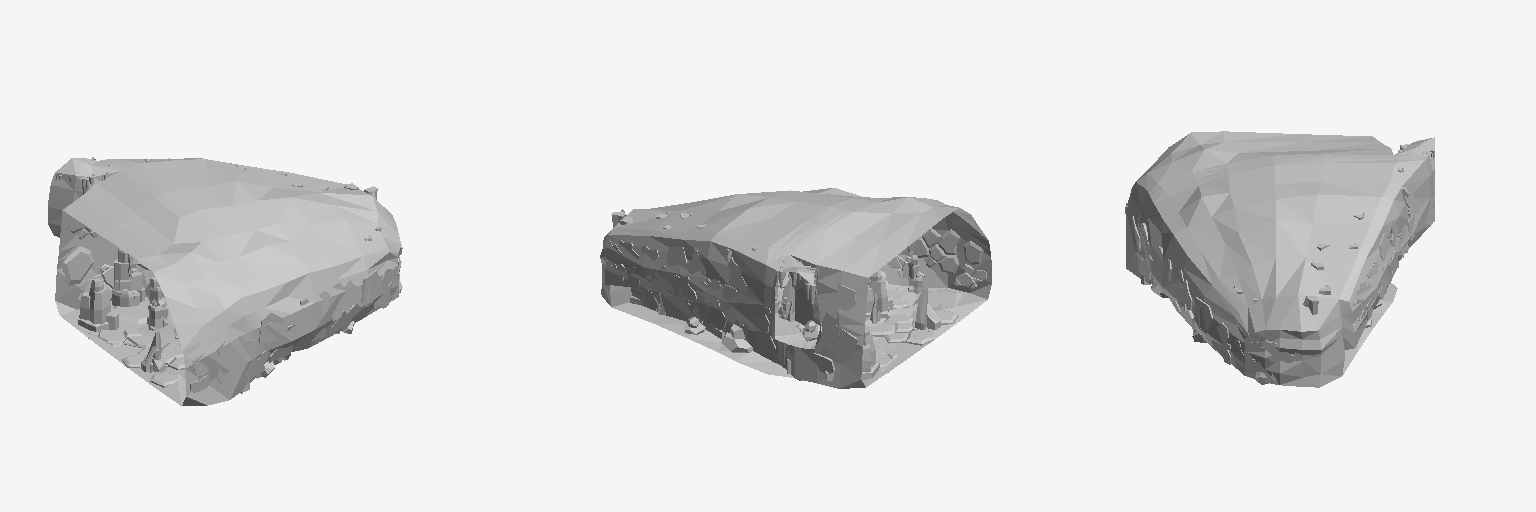
The model's file is stalactite-cavern.obj.
3 renders of one model, left to right at view 1: azimuth 30°, elevation 25°; view 2: azimuth 150°, elevation 25°; view 3: azimuth 270°, elevation 25°, orthographic.
Bounding box in the file's own units: 20.27 × 8.8 × 18.47.